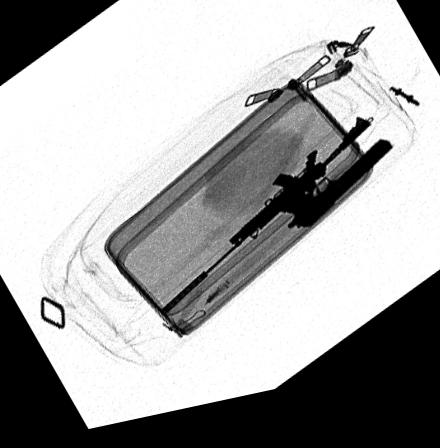Gun: (157, 132, 371, 323), (268, 154, 391, 245)
